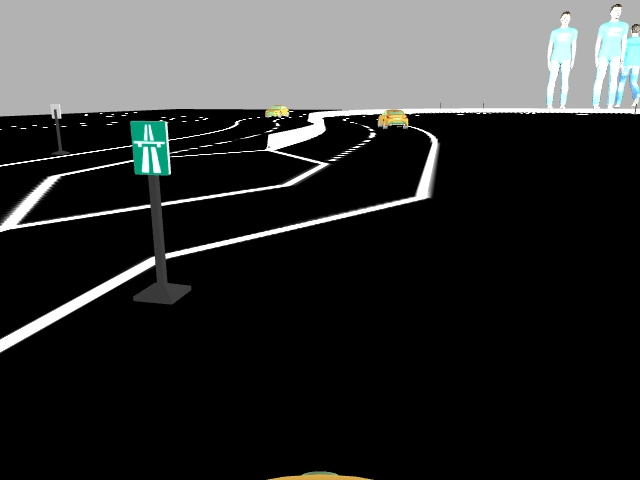HighwayEntrance: (124, 117, 174, 179)
